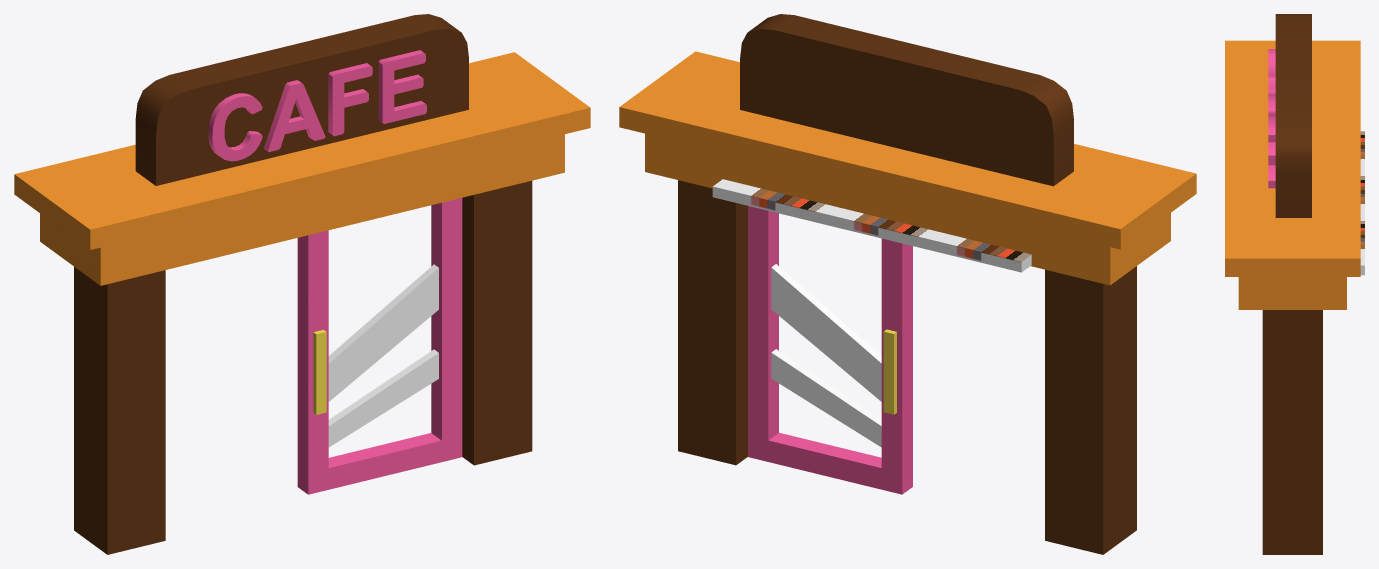
Rendered from Entrance.fbx.
The picture shows the model from 3 angles, left to right: view 1: azimuth 30°, elevation 25°; view 2: azimuth 150°, elevation 25°; view 3: azimuth 270°, elevation 25°; orthographic projection. The views are drawn at different scales.
Visible parts, largest first — view 1: Wall, Door; view 2: Wall, Door; view 3: Wall.
Part boxes in pixels (left/top/right/bottom): Wall: left=14, top=14, right=590, bottom=554; Door: left=297, top=198, right=462, bottom=494; Wall: left=619, top=14, right=1196, bottom=554; Door: left=748, top=206, right=912, bottom=494; Wall: left=1225, top=14, right=1364, bottom=554.
Bounding box in the file's own units: 192 × 160 × 51.96.
